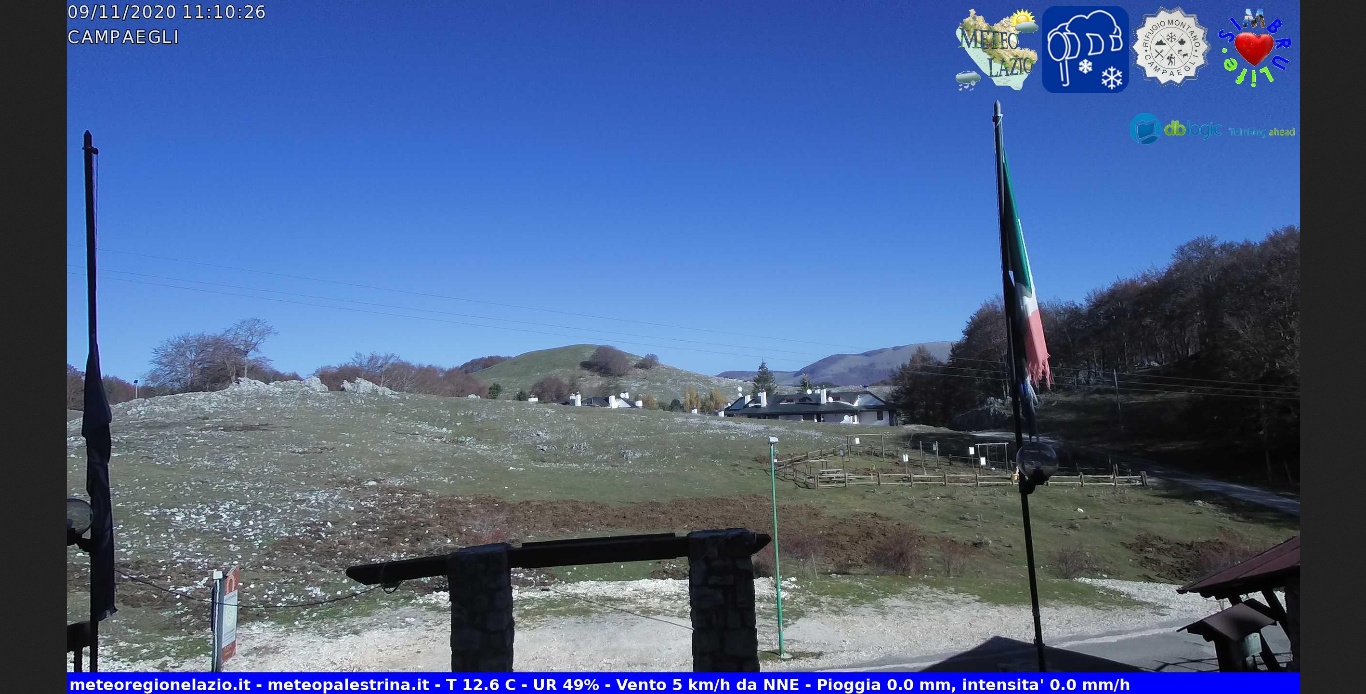no: (986, 91, 1070, 439)
